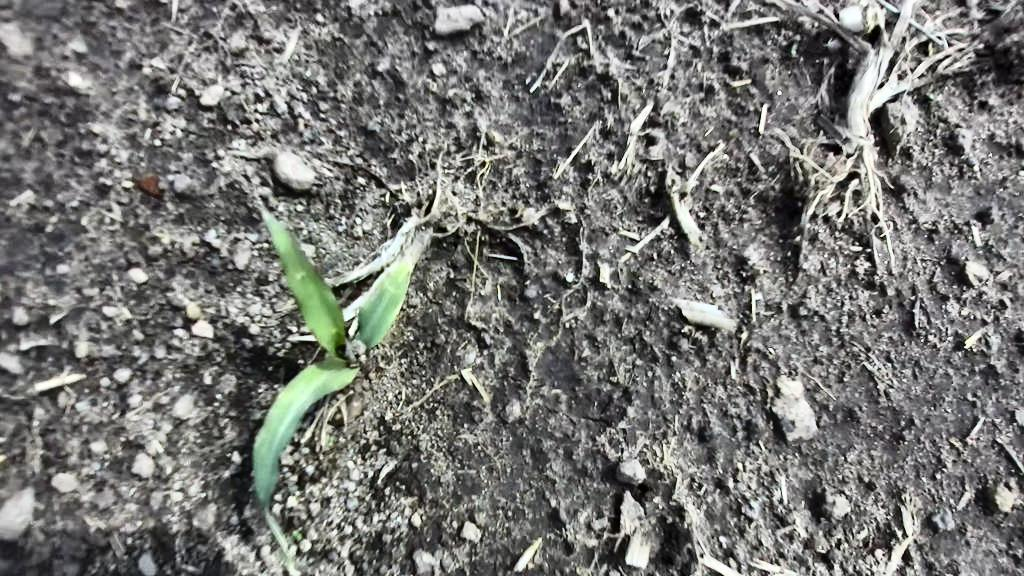BroWeed: (889, 489, 913, 565), (459, 363, 493, 406), (130, 536, 162, 576), (61, 70, 97, 100), (179, 288, 207, 323), (64, 385, 77, 415), (437, 372, 461, 387), (780, 32, 802, 48), (73, 397, 93, 413), (289, 527, 306, 545), (925, 83, 937, 100), (576, 565, 592, 576), (790, 41, 799, 57), (329, 433, 337, 448), (0, 454, 9, 464), (325, 433, 330, 449)
Maize: (140, 197, 419, 566)
